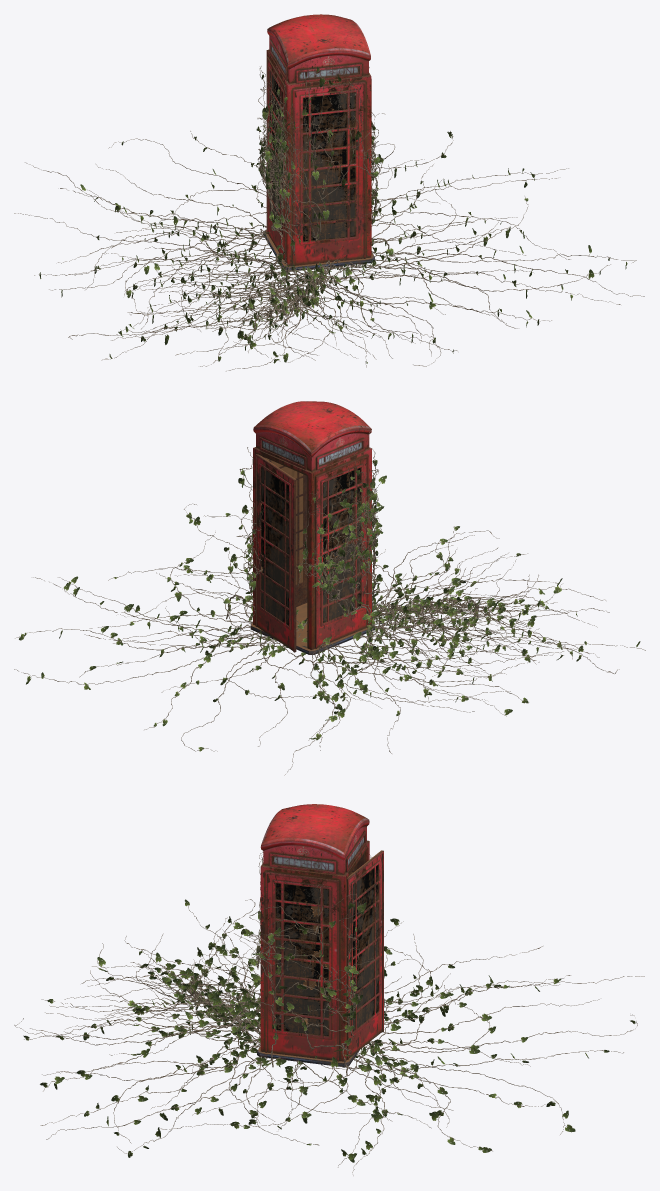
Rendered from Booth.fbx.
3 views of the same model, one above another, from view 1: azimuth 30°, elevation 25°; view 2: azimuth 150°, elevation 25°; view 3: azimuth 270°, elevation 25° (orthographic). The views are drawn at different scales.
Visible parts, largest first — view 1: Phone; view 2: Phone; view 3: Phone.
Boxes of the visible parts, x1,y1,x2,y2 form: Phone: (14, 14, 644, 371); Phone: (14, 401, 645, 775); Phone: (14, 804, 644, 1175).
Size of the model in its own units: 437 by 173 by 425.
